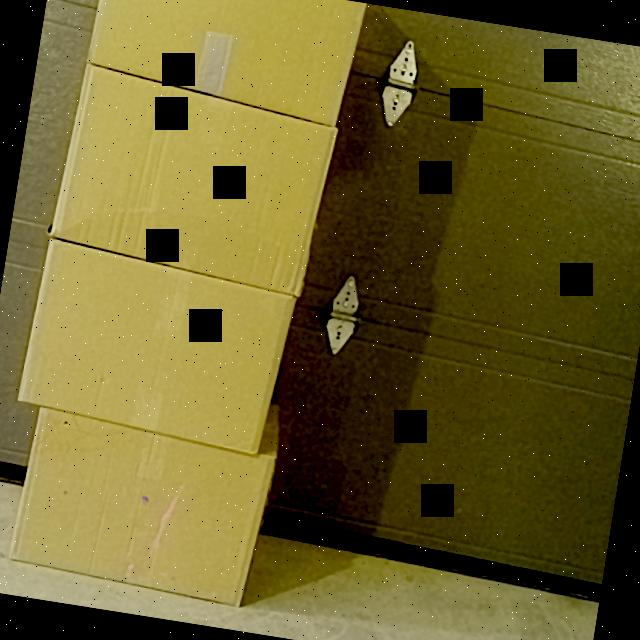box: (55, 80, 338, 278), (16, 252, 291, 444), (11, 412, 274, 604), (85, 0, 361, 112)
